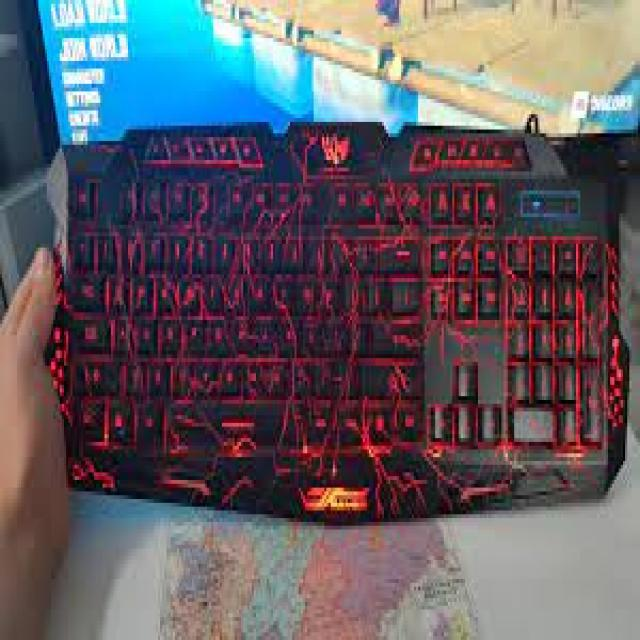keyboard: (57, 173, 608, 458)
